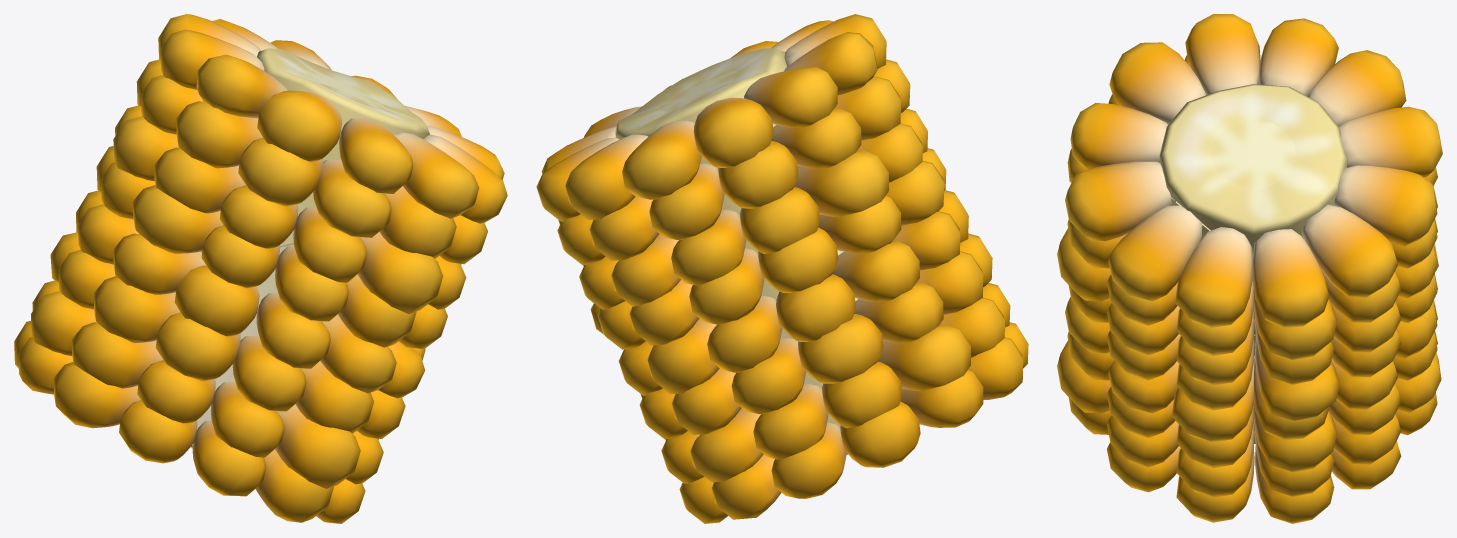
The model's file is level_171.fbx.
3 renders of one model, left to right at view 1: azimuth 30°, elevation 25°; view 2: azimuth 150°, elevation 25°; view 3: azimuth 270°, elevation 25°, orthographic. The views are drawn at different scales.
Visible parts, largest first — view 1: Cube_L2_9, Cube_L1_51, Cube_L1_56, Cube_L1_27, Cube_L1_33, Cube_L1_15, Cube_L1_77, Cube_L1_67, Cube_L1_43, Cube_L1_83, Cube_L1_79, Cube_L1_57 (+43 smaller); view 2: Cube_L2_9, Cube_L1_32, Cube_L1_47, Cube_L1_72, Cube_L1_92, Cube_L1_58, Cube_L1_82, Cube_L1_14, Cube_L1_84, Cube_L1_75, Cube_L1_60, Cube_L1_74 (+43 smaller); view 3: Cube_L2_9, Cube_L1_15, Cube_L1_5, Cube_L1_1, Cube_L1, Cube_L1_4, Cube_L1_14, Cube_L1_32, Cube_L1_51, Cube_L1_33, Cube_L1_47, Cube_L1_59 (+43 smaller).
Boxes of the visible parts, x1=… form: Cube_L2_9: x1=257, y1=48, x2=429, y2=161; Cube_L1_51: x1=257, y1=90, x2=341, y2=161; Cube_L1_56: x1=275, y1=404, x2=360, y2=488; Cube_L1_27: x1=357, y1=232, x2=443, y2=313; Cube_L1_33: x1=339, y1=118, x2=413, y2=193; Cube_L1_15: x1=393, y1=132, x2=479, y2=218; Cube_L1_77: x1=174, y1=265, x2=259, y2=336; Cube_L1_67: x1=176, y1=101, x2=262, y2=168; Cube_L1_43: x1=313, y1=160, x2=391, y2=237; Cube_L1_83: x1=155, y1=312, x2=240, y2=381; Cube_L1_79: x1=132, y1=185, x2=223, y2=253; Cube_L1_57: x1=238, y1=138, x2=323, y2=206; Cube_L2_9: x1=615, y1=48, x2=787, y2=139; Cube_L1_32: x1=622, y1=120, x2=701, y2=199; Cube_L1_47: x1=693, y1=97, x2=773, y2=167; Cube_L1_72: x1=794, y1=150, x2=888, y2=217; Cube_L1_92: x1=878, y1=324, x2=970, y2=391; Cube_L1_58: x1=744, y1=67, x2=837, y2=127; Cube_L1_82: x1=798, y1=314, x2=883, y2=383; Cube_L1_14: x1=565, y1=134, x2=647, y2=219; Cube_L1_84: x1=833, y1=241, x2=919, y2=302; Cube_L1_75: x1=776, y1=274, x2=855, y2=341; Cube_L1_60: x1=707, y1=296, x2=782, y2=372; Cube_L1_74: x1=753, y1=384, x2=828, y2=459; Cube_L2_9: x1=1159, y1=84, x2=1347, y2=253; Cube_L1_15: x1=1065, y1=161, x2=1175, y2=241; Cube_L1_5: x1=1108, y1=205, x2=1202, y2=301; Cube_L1_1: x1=1175, y1=227, x2=1252, y2=327; Cube_L1: x1=1252, y1=229, x2=1329, y2=328; Cube_L1_4: x1=1301, y1=204, x2=1397, y2=297; Cube_L1_14: x1=1334, y1=165, x2=1437, y2=246; Cube_L1_32: x1=1339, y1=106, x2=1442, y2=177; Cube_L1_51: x1=1109, y1=42, x2=1206, y2=124; Cube_L1_33: x1=1070, y1=103, x2=1167, y2=169; Cube_L1_47: x1=1308, y1=50, x2=1406, y2=126; Cube_L1_59: x1=1185, y1=14, x2=1260, y2=94.
Bounding box in the file's own units: 12.59 × 12.93 × 9.83.
